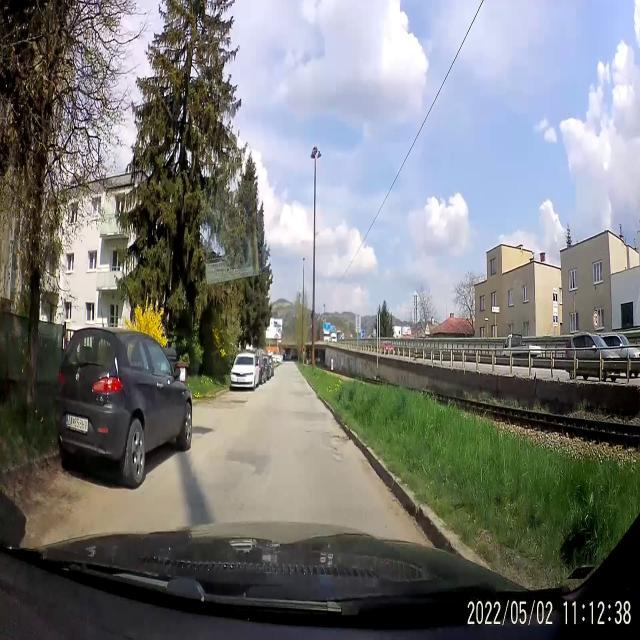Pothole: (322, 427, 353, 471)
